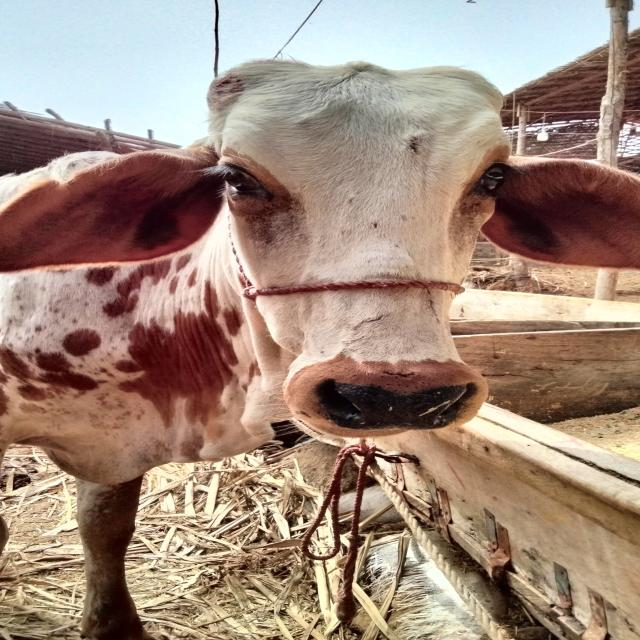muzzles: (294, 366, 485, 436)
